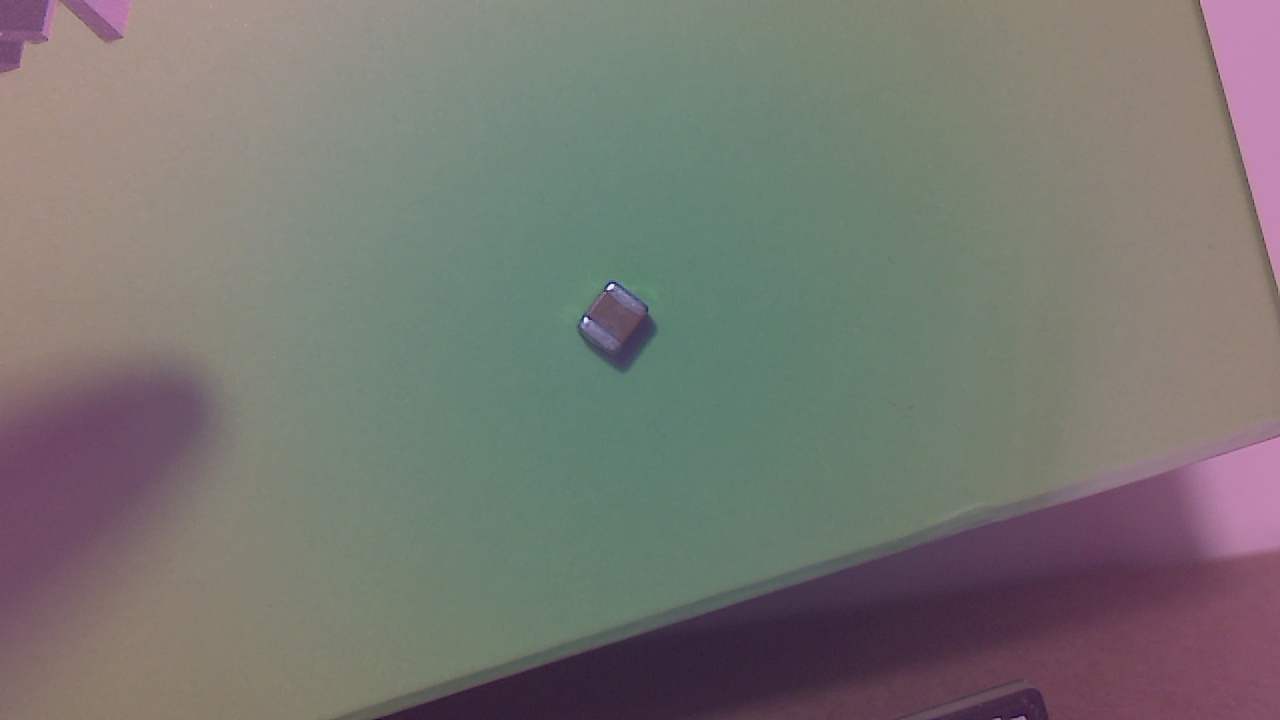Condensator: (580, 286, 657, 369)
